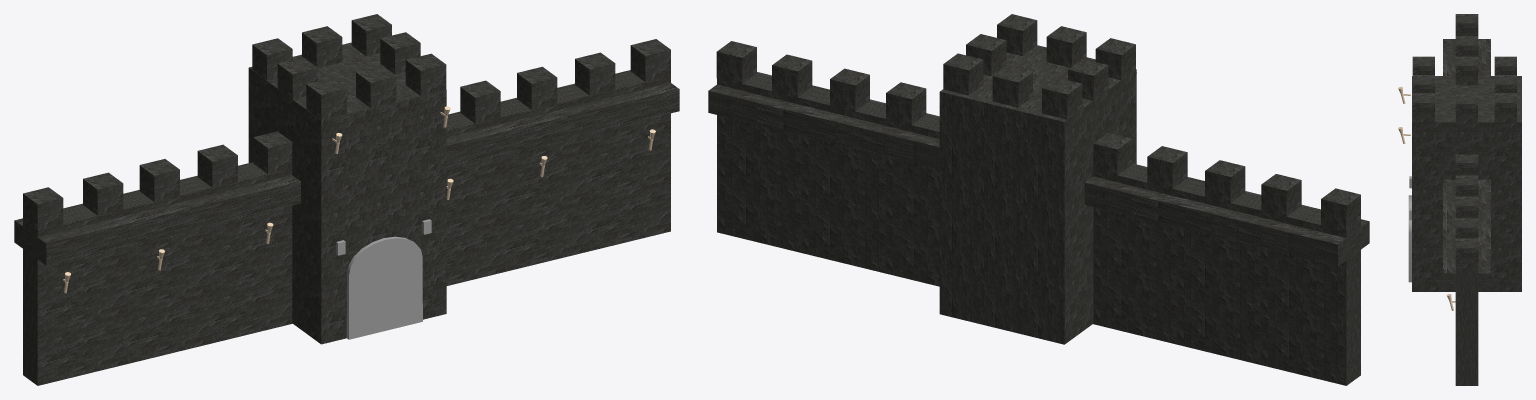
The model's file is Castle.fbx.
The picture shows the model from 3 angles, left to right: view 1: azimuth 30°, elevation 25°; view 2: azimuth 150°, elevation 25°; view 3: azimuth 270°, elevation 25°; orthographic projection. The views are drawn at different scales.
Parts seen in each view (by area): view 1: pCube8, pCube15, pCube25, pCube9, pCube24, pCylinder38, pCube21, pCube11, pCube22, pCube20, pCube19, pCube13 (+11 smaller); view 2: pCube15, pCube8, pCube25, pCube9, pCube24, pCube19, pCube11, pCube21, pCube20, pCube13, pCube12, pCube10 (+10 smaller); view 3: pCube15, pCube24, pCube25, pCube9, pCube19, pCube30, pCube17, pCube27, pCube29, pCube10, pCube22, pCube23 (+8 smaller).
Part boxes in pixels (x1=…): pCube8: x1=23, y1=163, x2=292, y2=385; pCube15: x1=248, y1=42, x2=446, y2=344; pCube25: x1=446, y1=71, x2=670, y2=285; pCube9: x1=14, y1=162, x2=300, y2=265; pCube24: x1=446, y1=70, x2=679, y2=167; pCylinder38: x1=346, y1=236, x2=422, y2=339; pCube21: x1=460, y1=80, x2=500, y2=124; pCube11: x1=83, y1=172, x2=123, y2=216; pCube22: x1=517, y1=66, x2=557, y2=110; pCube20: x1=575, y1=52, x2=615, y2=96; pCube19: x1=630, y1=39, x2=670, y2=82; pCube13: x1=197, y1=144, x2=237, y2=188; pCube15: x1=939, y1=45, x2=1136, y2=344; pCube8: x1=1093, y1=165, x2=1360, y2=385; pCube25: x1=717, y1=73, x2=939, y2=286; pCube9: x1=1084, y1=163, x2=1369, y2=266; pCube24: x1=708, y1=72, x2=939, y2=168; pCube19: x1=716, y1=41, x2=756, y2=84; pCube11: x1=1261, y1=174, x2=1301, y2=217; pCube21: x1=886, y1=82, x2=926, y2=125; pCube20: x1=772, y1=54, x2=812, y2=97; pCube13: x1=1147, y1=146, x2=1187, y2=189; pCube12: x1=1205, y1=160, x2=1245, y2=203; pCube10: x1=1321, y1=188, x2=1360, y2=231; pCube15: x1=1412, y1=76, x2=1521, y2=291; pCube24: x1=1443, y1=179, x2=1490, y2=289; pCube25: x1=1455, y1=268, x2=1478, y2=385; pCube9: x1=1443, y1=39, x2=1490, y2=75; pCube19: x1=1455, y1=238, x2=1478, y2=268; pCube30: x1=1455, y1=94, x2=1477, y2=124; pCube17: x1=1494, y1=93, x2=1516, y2=122; pCube27: x1=1412, y1=93, x2=1434, y2=122; pCube29: x1=1455, y1=56, x2=1477, y2=85; pCube10: x1=1455, y1=14, x2=1478, y2=36; pCube22: x1=1455, y1=196, x2=1478, y2=218; pCube23: x1=1455, y1=154, x2=1478, y2=175.
Size of the model in its own units: 53 by 19.97 by 11.84.
